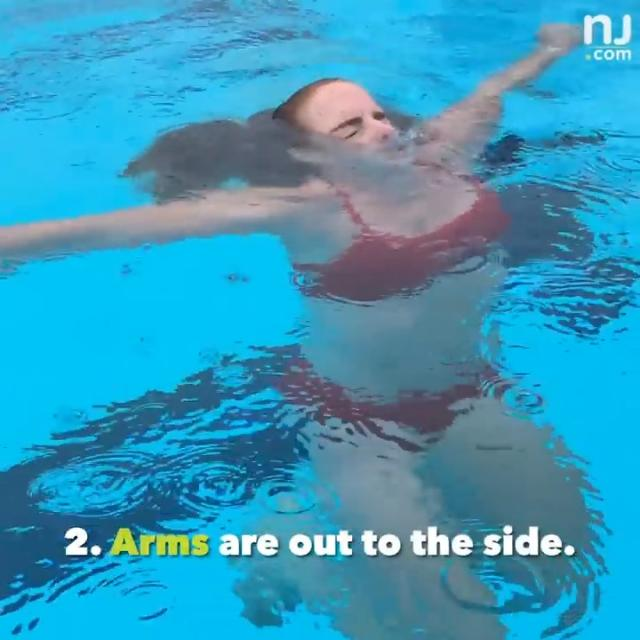Drowning: (218, 69, 516, 288)
